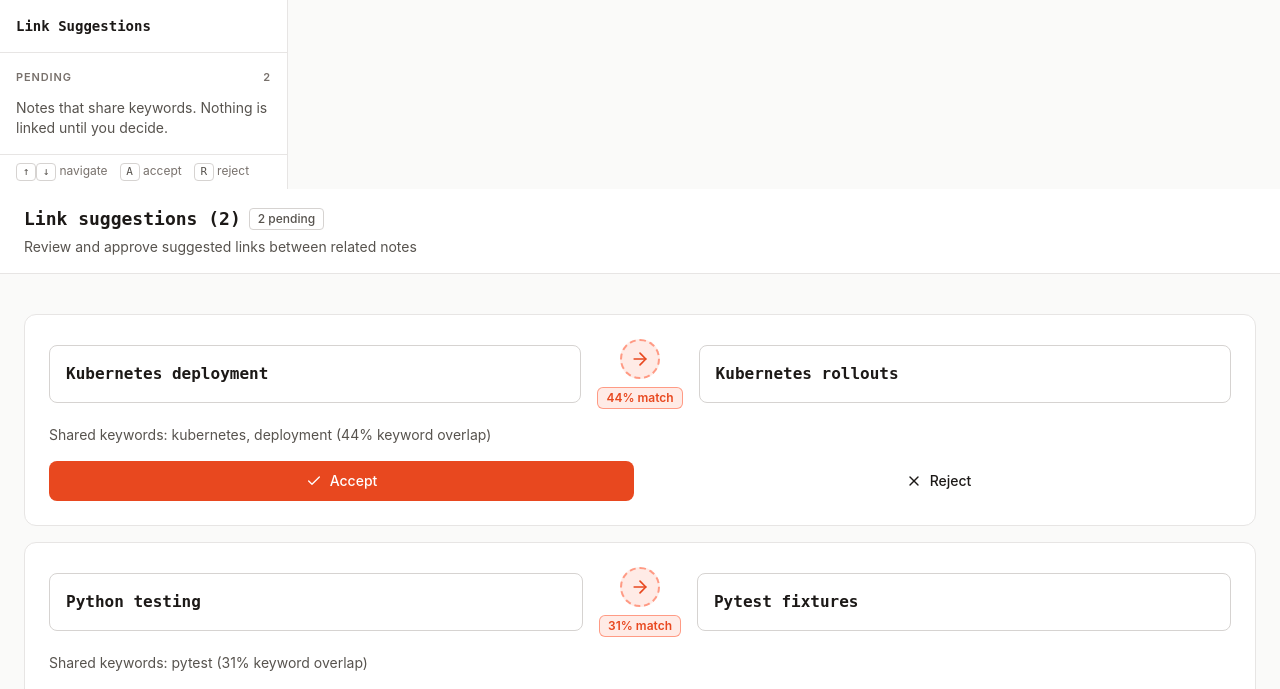
SuggestionsList › explains a stale suggestion and reloads the list
The image size is (1280, 689).
Expected: the heading "Link suggestions (2)" is shown, [24, 205, 241, 233]
Click the button with aria-label "Accept link between Kubernetes deployment" at coordinates (342, 481), box [49, 461, 634, 501]
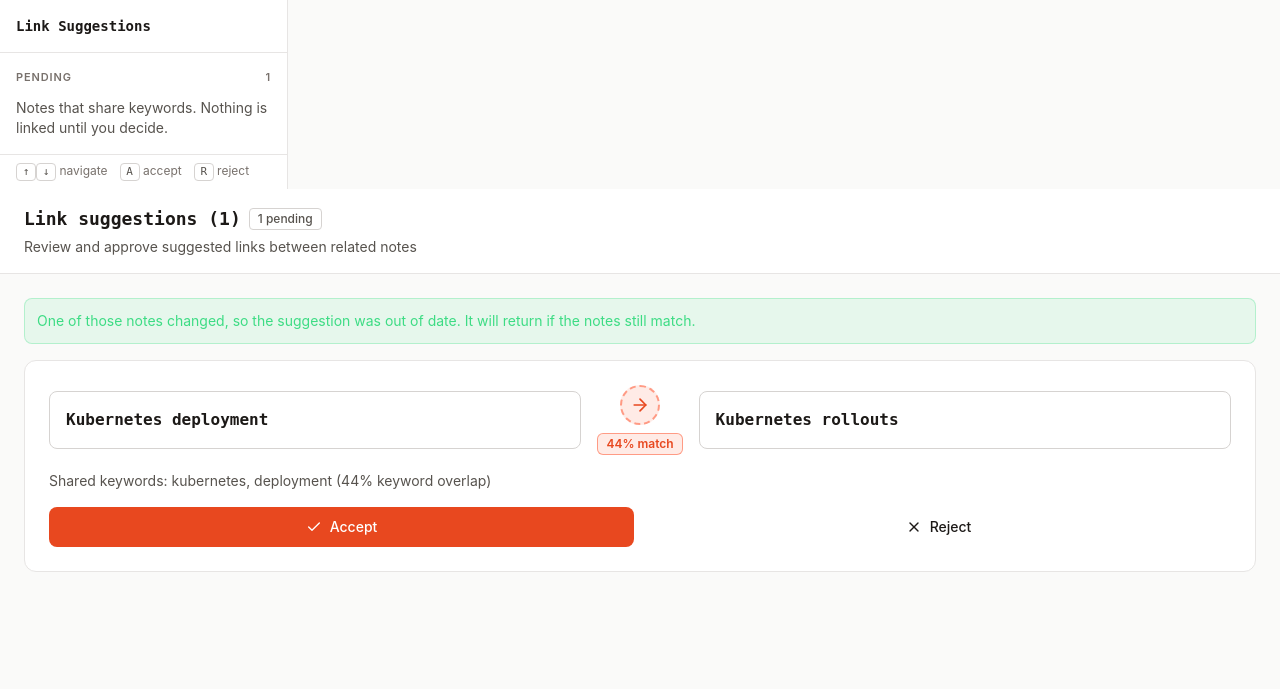
Now the text "One of those notes changed" is shown, box [37, 312, 696, 329]
